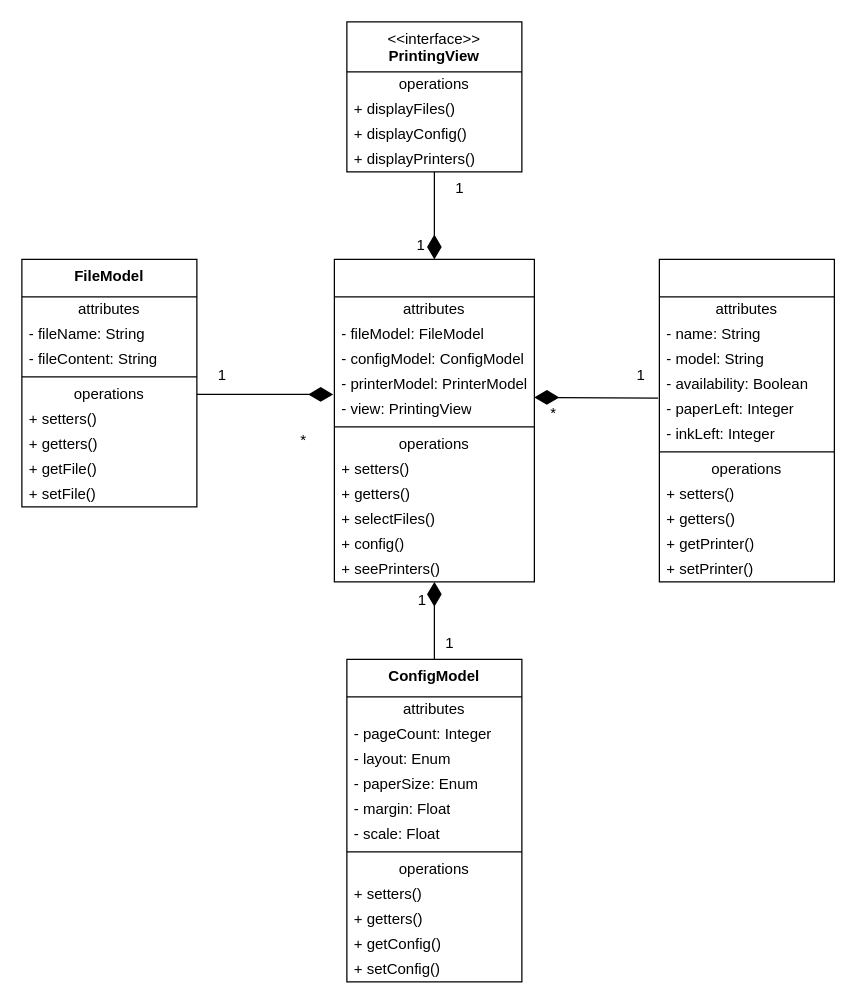
The diagram is 856 pixels wide and 1004 high, and some of its shapes have lost their labels. Each missing label, with the box of its shape:
PrinterModel: (658, 258, 834, 582)
PrintingController: (333, 258, 534, 582)
